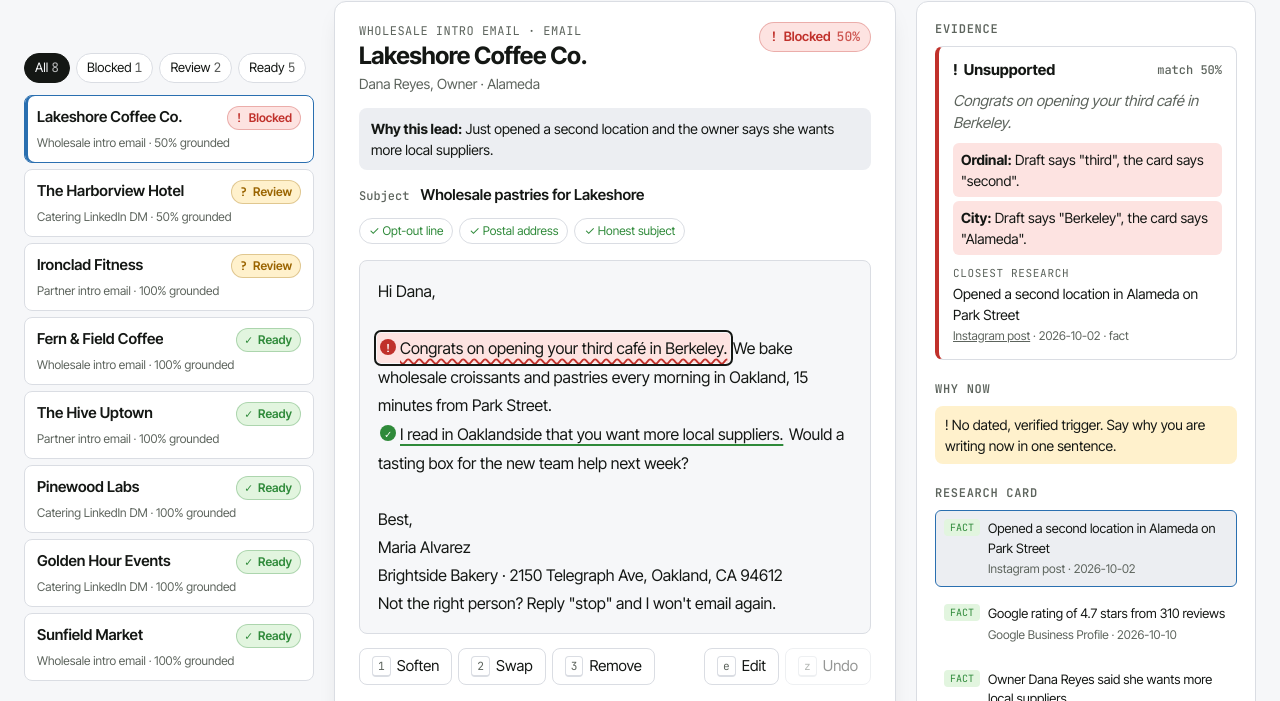
it: TodayApp › Swap flips the Lakeshore verdict to ready
The width and height of the screenshot is (1280, 701).
Check: the 1st text "Blocked" is shown, box [784,27,830,46]
What coordinates should you click on to do the following:
click the button "2 Swap"
I would click on:
 (502, 667)
Its box is [458,648,546,685].
(page scrolled)
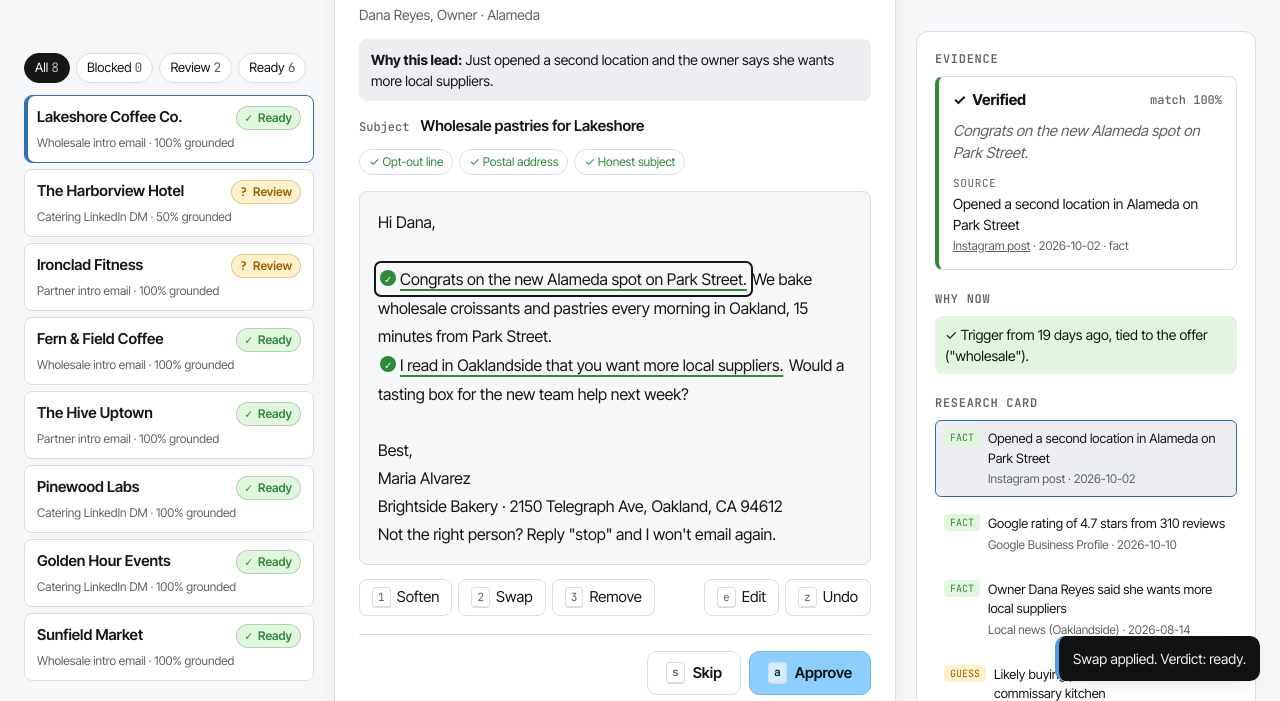
Check: the element named "draft" shows "Congrats on the new Alameda spot on Park Street.", box [377,264,750,294]
